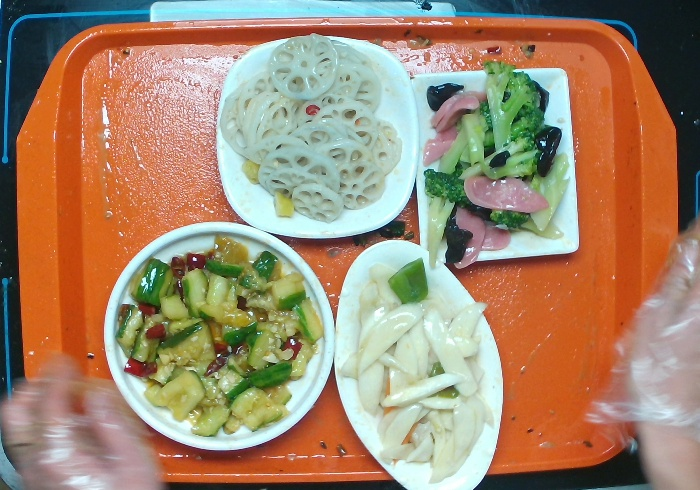HZYJPL-Si_Fang_Die: (404, 54, 583, 268)
HZYJPL-Si_Fang_Yuan_Die: (215, 22, 433, 252)
HZYJPL-Xiao_Yu_Die: (321, 227, 512, 490)
HZYJPL-Xiao_Yuan_Die: (94, 209, 343, 470)
